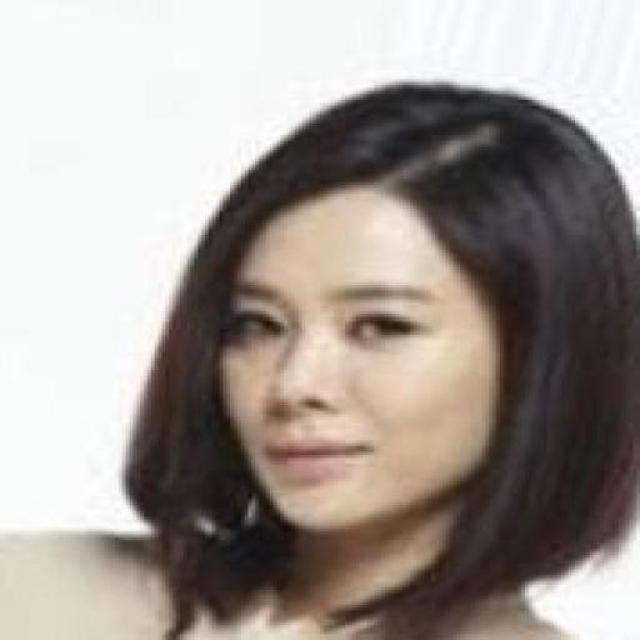bareface: (214, 152, 552, 558)
